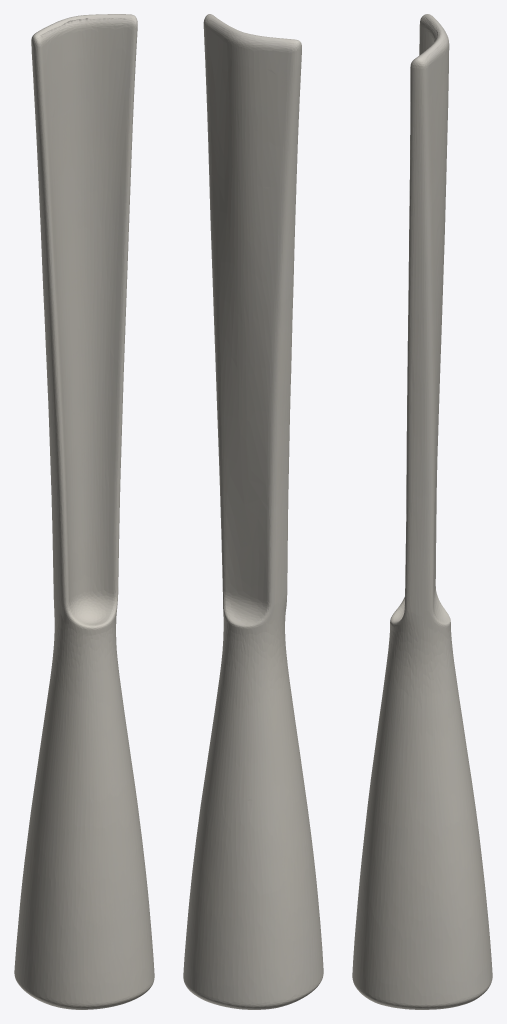
Rendered from 未命名.fbx.
3 renders of one model, left to right at view 1: azimuth 30°, elevation 25°; view 2: azimuth 150°, elevation 25°; view 3: azimuth 270°, elevation 25°, orthographic.
Visible parts, largest first — view 1: node_0; view 2: node_0; view 3: node_0.
Boxes of the visible parts, left/top/right/bottom form: node_0: left=14, top=14, right=154, bottom=1009; node_0: left=183, top=14, right=323, bottom=1009; node_0: left=352, top=14, right=492, bottom=1009.
Size of the model in its own units: 15.33 by 119 by 15.95.
1 material, 1 textured.
